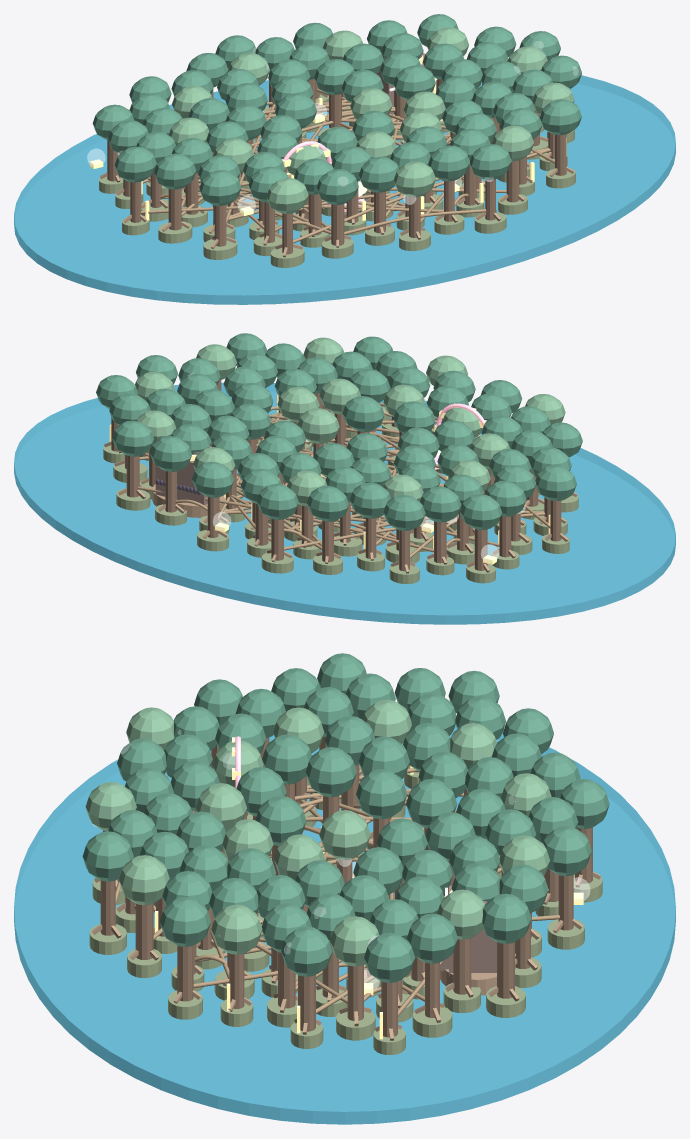
File: sabaody-grove-network.glb
The picture shows the model from 3 angles, top to bottom: view 1: azimuth 30°, elevation 25°; view 2: azimuth 150°, elevation 25°; view 3: azimuth 270°, elevation 25°; orthographic projection. The views are drawn at different scales.
Visible parts, largest first — view 1: Sabaody water stage, Grove 68 canopy, Grove 73 canopy, Grove 60 canopy, Grove 74 canopy, Grove 71 canopy, Grove 63 canopy, Grove 79 canopy, Grove 76 canopy, Grove 58 canopy, Grove 50 canopy, Grove 09 canopy (+88 smaller); view 2: Sabaody water stage, Grove 70 canopy, Grove 72 canopy, Grove 67 canopy, Grove 59 canopy, Grove 62 canopy, Grove 78 canopy, Grove 75 canopy, Grove 03 canopy, Grove 73 canopy, Grove 57 canopy, Grove 01 canopy (+90 smaller); view 3: Sabaody water stage, Grove 02 canopy, Grove 77 canopy, Grove 01 canopy, Grove 69 canopy, Grove 05 canopy, Grove 61 canopy, Grove 74 canopy, Grove 72 canopy, Grove 64 canopy, Grove 66 canopy, Grove 79 canopy (+89 smaller).
Boxes of the visible parts, left/top/right/bottom form: Sabaody water stage: left=14, top=75, right=675, bottom=304; Grove 68 canopy: left=199, top=170, right=241, bottom=205; Grove 73 canopy: left=114, top=146, right=156, bottom=182; Grove 60 canopy: left=154, top=153, right=196, bottom=189; Grove 74 canopy: left=539, top=99, right=581, bottom=135; Grove 71 canopy: left=393, top=161, right=435, bottom=197; Grove 63 canopy: left=316, top=169, right=358, bottom=204; Grove 79 canopy: left=470, top=144, right=511, bottom=179; Grove 76 canopy: left=266, top=178, right=308, bottom=213; Grove 58 canopy: left=428, top=145, right=469, bottom=181; Grove 50 canopy: left=359, top=156, right=398, bottom=192; Grove 09 canopy: left=393, top=65, right=435, bottom=100; Sabaody water stage: left=14, top=382, right=675, bottom=624; Grove 70 canopy: left=383, top=495, right=425, bottom=530; Grove 72 canopy: left=112, top=420, right=154, bottom=456; Grove 67 canopy: left=192, top=461, right=233, bottom=497; Grove 59 canopy: left=150, top=436, right=192, bottom=471; Grove 62 canopy: left=307, top=485, right=348, bottom=521; Grove 78 canopy: left=460, top=494, right=502, bottom=529; Grove 75 canopy: left=256, top=484, right=298, bottom=519; Grove 03 canopy: left=342, top=396, right=384, bottom=431; Grove 73 canopy: left=535, top=465, right=576, bottom=501; Grove 57 canopy: left=420, top=486, right=461, bottom=522; Grove 01 canopy: left=297, top=408, right=339, bottom=443; Sabaody water stage: left=14, top=724, right=675, bottom=1124; Grove 02 canopy: left=356, top=769, right=407, bottom=819; Grove 77 canopy: left=364, top=932, right=415, bottom=982; Grove 01 canopy: left=319, top=810, right=370, bottom=860; Grove 69 canopy: left=281, top=926, right=332, bottom=976; Grove 05 canopy: left=305, top=747, right=356, bottom=797; Grove 61 canopy: left=211, top=904, right=262, bottom=954; Grove 74 canopy: left=160, top=897, right=210, bottom=946; Grove 72 canopy: left=482, top=893, right=531, bottom=943; Grove 64 canopy: left=406, top=913, right=457, bottom=963; Grove 66 canopy: left=119, top=855, right=169, bottom=905; Grove 79 canopy: left=82, top=831, right=133, bottom=881.
Bounding box in the file's own units: 23.33 × 3.42 × 15.98.
